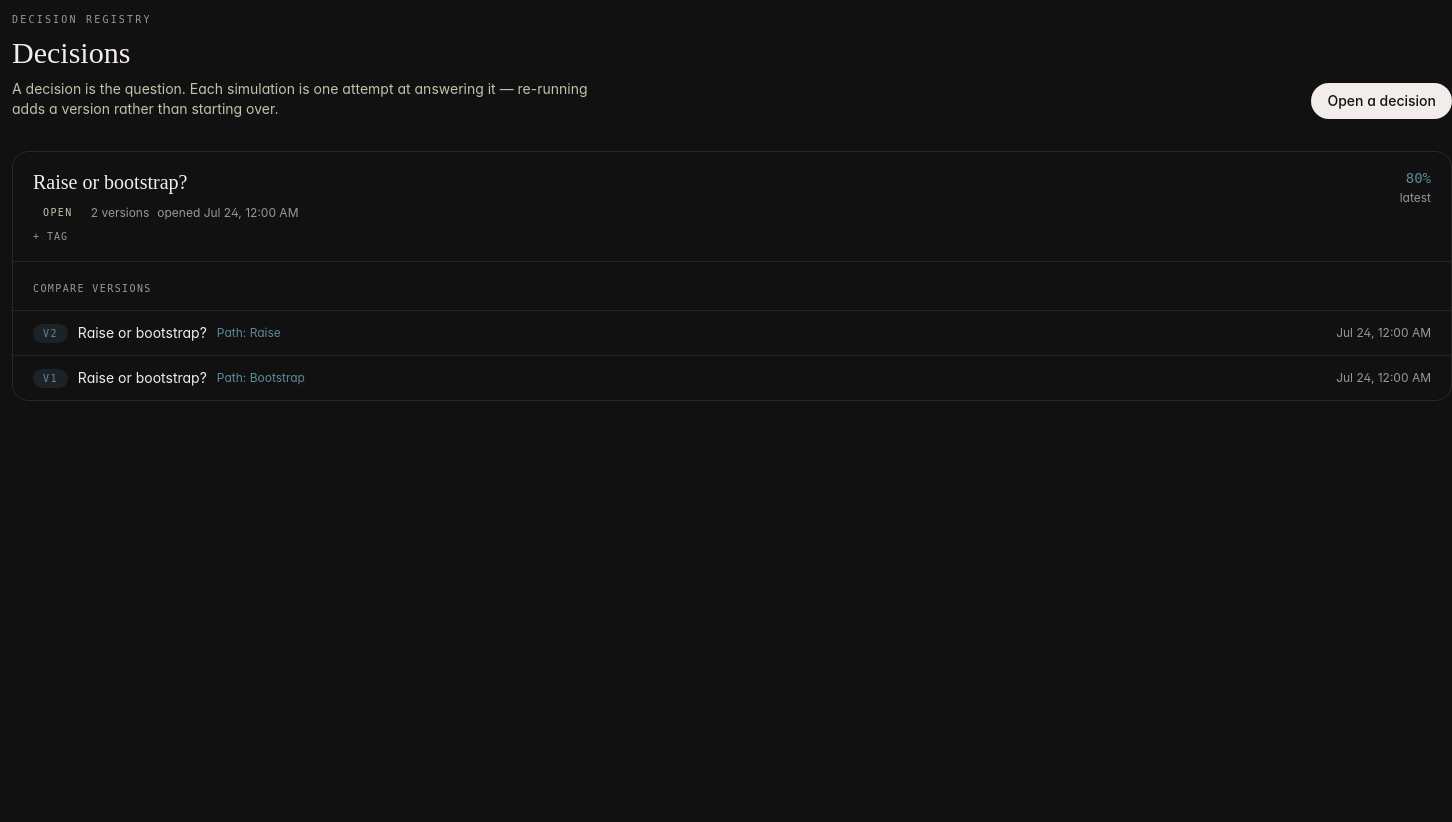
Test case: DecisionsPage version comparison › shows a comparison table for a decision with two or more versions
Click the button "Compare versions" at coordinates (92, 289), box [33, 281, 152, 296]
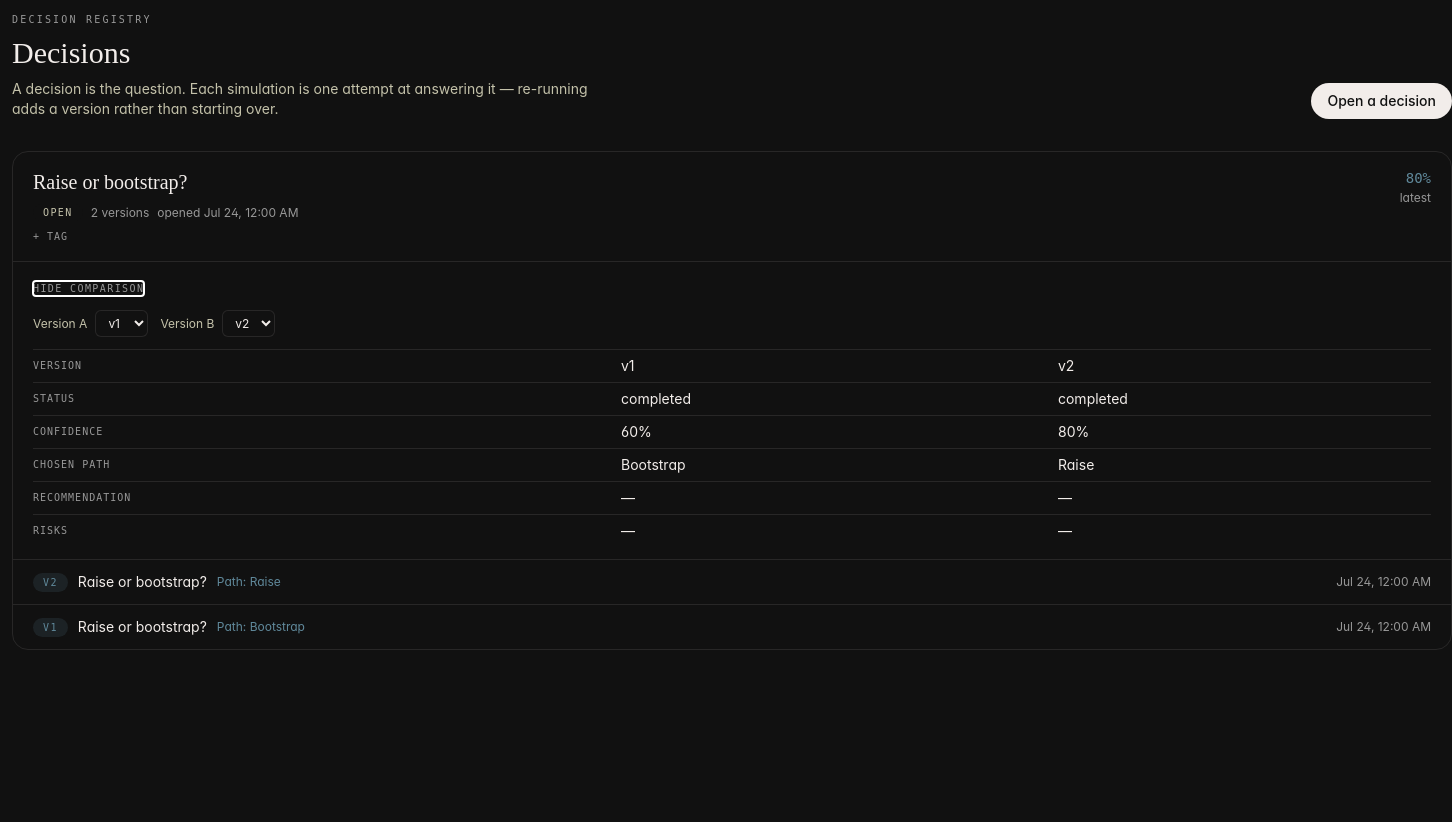
Now the text "v1" is shown, box [621, 350, 1058, 383]
Now the text "v2" is shown, box [1058, 350, 1431, 383]
Now the text "Bootstrap" is shown, box [621, 449, 1058, 482]
